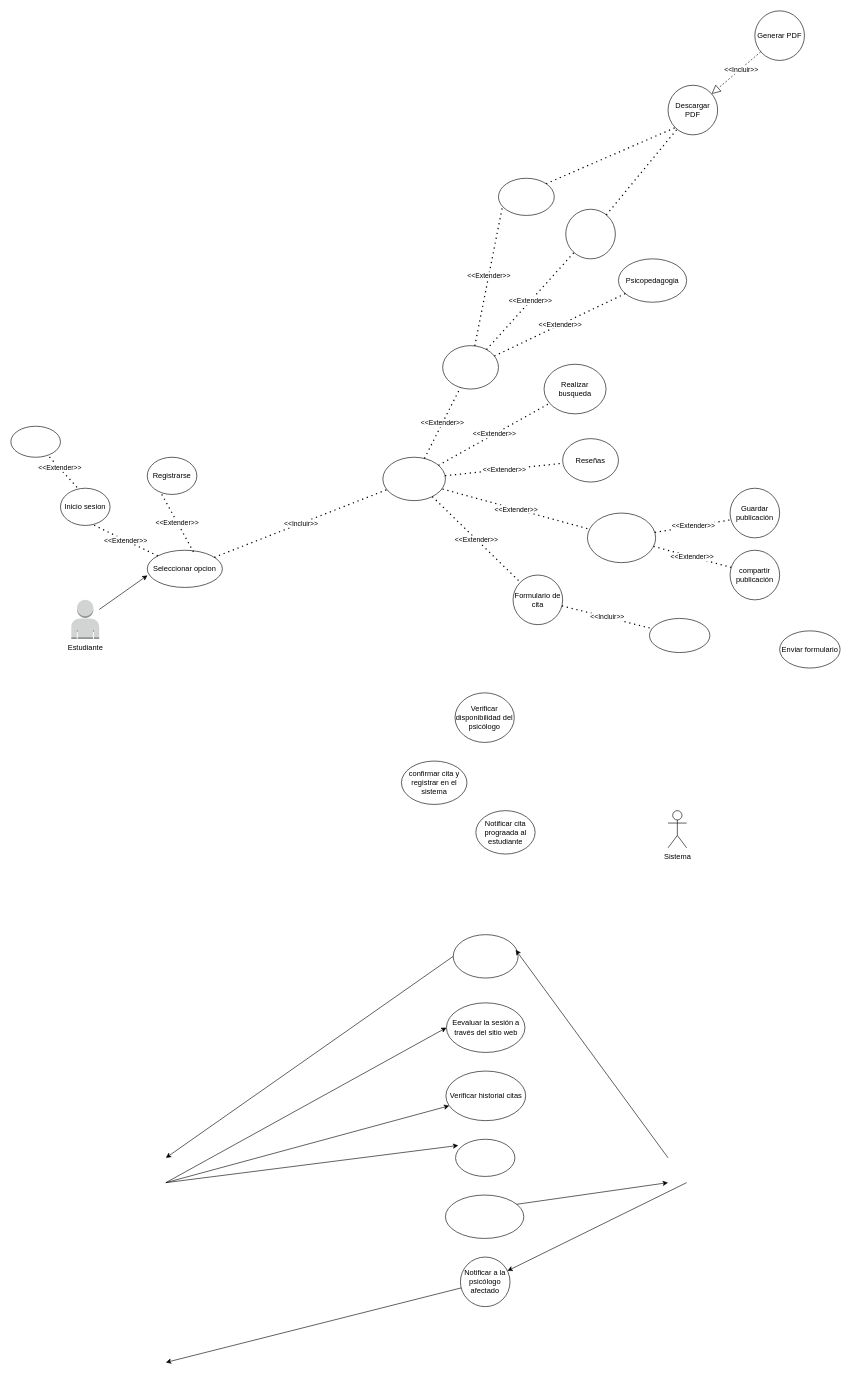
The diagram is 851 pixels wide and 1378 high, and some of its shapes have lost their labels. The centre of each missing label's shape, as x and y in pixels:
"cancelar o programar cita" belongs at point (485, 1157).
"Enviar recordatorio de la cita(días antes)" belongs at point (485, 956).
"Llenar formulario" belongs at point (679, 635).
"Orientación Estudiantil" belongs at point (590, 234).
"Pantalla de inicio" belongs at point (413, 479).
"Psicologia" belongs at point (526, 196).
"Recuperar contraseña" belongs at point (35, 441).
"Registrar cancelación o reprogramacion" belongs at point (484, 1216).
"Secciones de servicios" belongs at point (470, 367).
"Visualizar publicaciones" belongs at point (621, 537).
